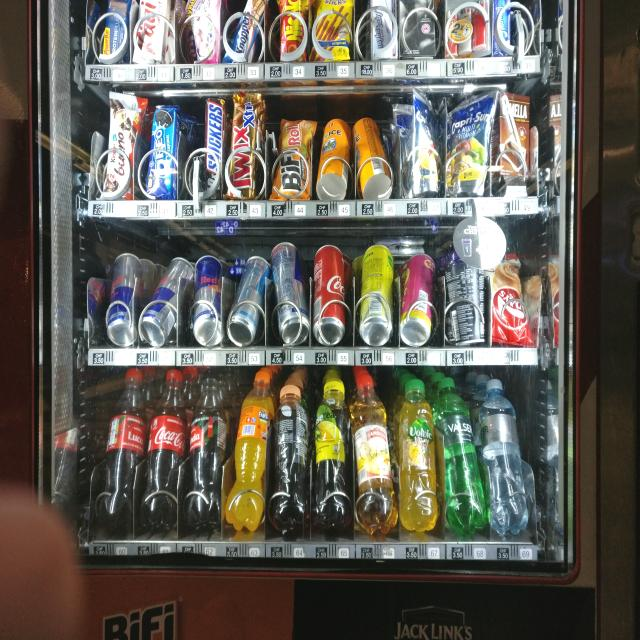7days_croissantschoko_packung_80_1_0000000000003: (487, 247, 532, 346)
bifi_roll__50__4251097402635: (271, 115, 314, 201)
bueno___43__4008400320328: (99, 90, 141, 201)
c-swiss_dosenabisicetea__33__9120025930135: (353, 116, 395, 201), (318, 115, 354, 199)
caferoyal_classicmacchiato__33__7617014164487: (446, 246, 486, 343)
caprisun_multivitamin__20__4000177605004: (446, 96, 492, 196), (409, 92, 444, 197)
coke__dose_33__54491472: (313, 244, 347, 342)
coke__flasche_50__54491472: (100, 365, 147, 531), (147, 372, 188, 532)
coke_zero_flasche_50__5449000131836: (189, 373, 229, 529)
comella_schokodrink__33__7613100037253: (496, 88, 534, 188)
fanta___50__40822938: (228, 368, 270, 534)
fini_jellykisses_packung_80_1_8410525116704: (176, 0, 218, 61)
fuse_lemon__50__5449000235947: (314, 379, 349, 530)
fuse_lemon_dose_33__5449000235947: (358, 244, 394, 345)
fuse_peach__50__5449000236623: (272, 380, 314, 538)
knoppers_riegel____4035800488808: (230, 0, 268, 63)
lorenz_nicnacs__40__4018077798818: (280, 0, 308, 63)
malburner_partysticks__40__7610200279682: (310, 0, 353, 63)
oreo___66__84100733: (148, 103, 176, 200)
powerbar_proteinplusschoko__55__4029679520028: (101, 0, 130, 61)
ramseier_schorle__50__7610057012456: (351, 372, 399, 534)
redbull___33__90162909: (270, 239, 312, 345), (143, 260, 190, 339), (106, 254, 140, 344), (192, 256, 225, 347)
redbull_light__33__90162800: (228, 253, 272, 346)
snickers___50__5000159461122: (201, 94, 226, 200)
tiki_himbeerbrause_dose_33_1_: (400, 252, 438, 341)
twix___50__5000159459228: (228, 91, 262, 198)
valser_classic__50__76404160: (433, 376, 489, 538)
valser_still__50__7610335002575: (479, 378, 531, 535)
volvic_pinapple__50__305764335648: (397, 379, 440, 530)
